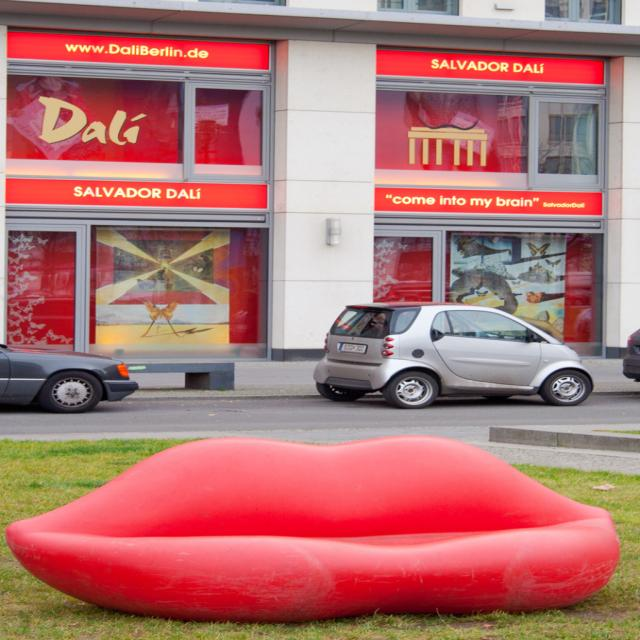car: (311, 298, 593, 412)
